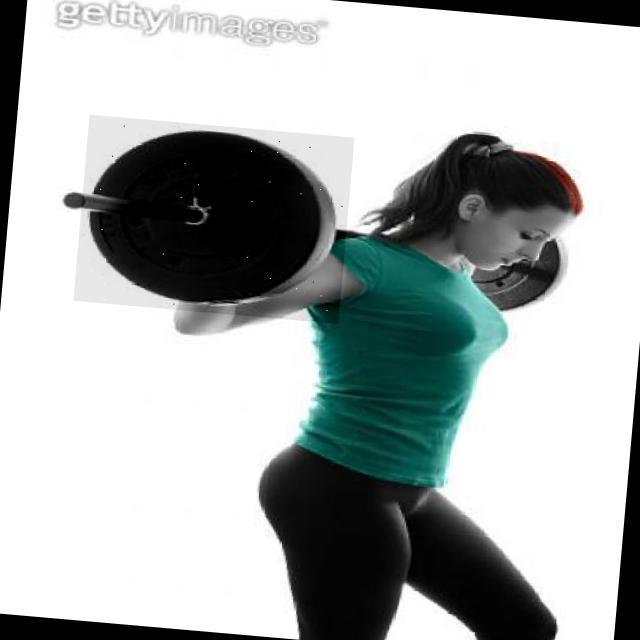barbell: (75, 115, 356, 325)
